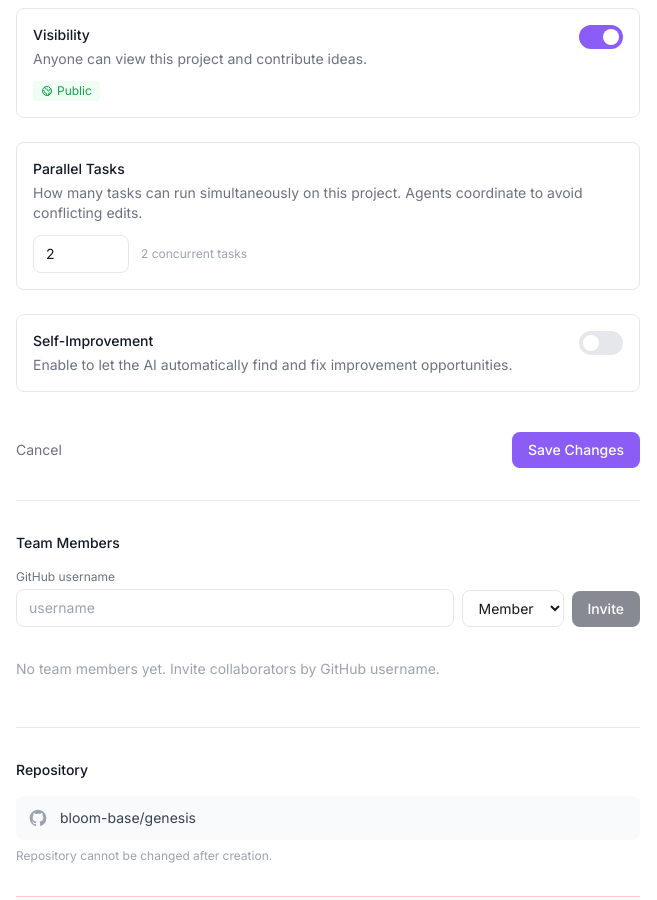
it: ProjectSettingsPage › save settings form › shows Saving... text while save is in progress
(page scrolled)
Click the button "Save Changes" at (576, 450), box [512,432,640,468]
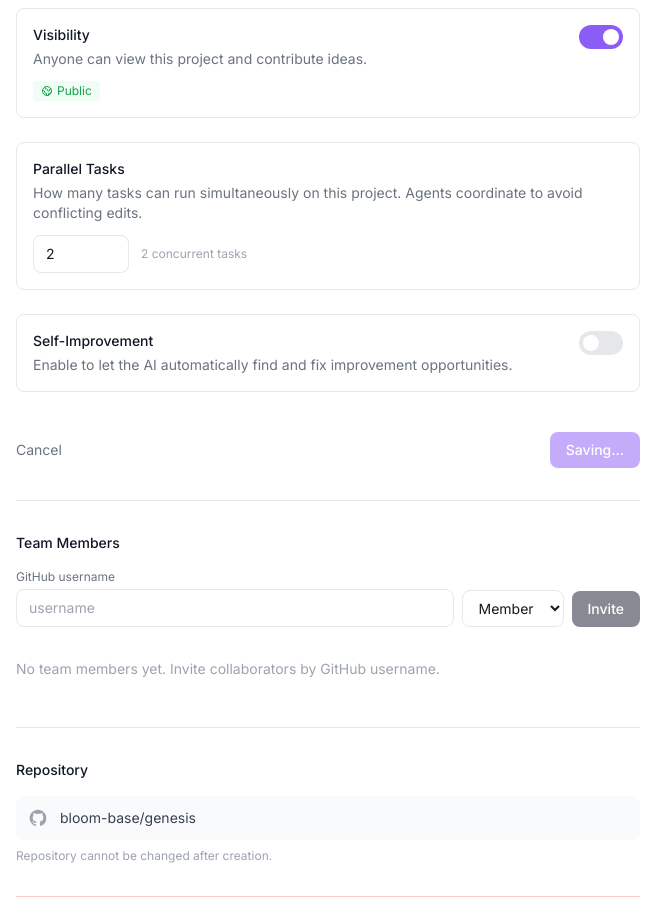
Check: the button "Saving..." is shown, box [550,432,640,468]
